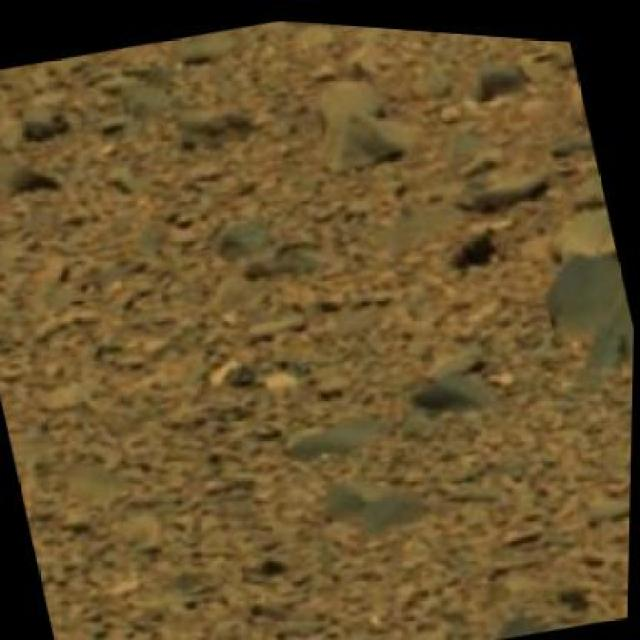rock: (523, 222, 635, 389), (440, 558, 629, 638)
